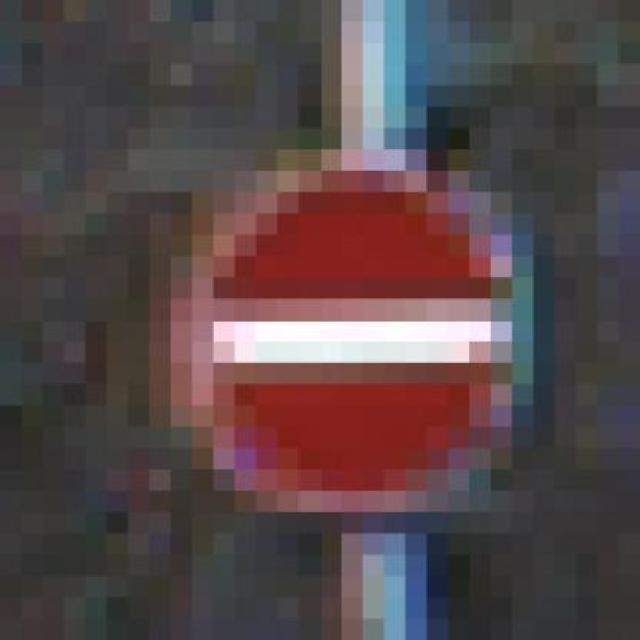No Entry: (107, 106, 576, 534)
